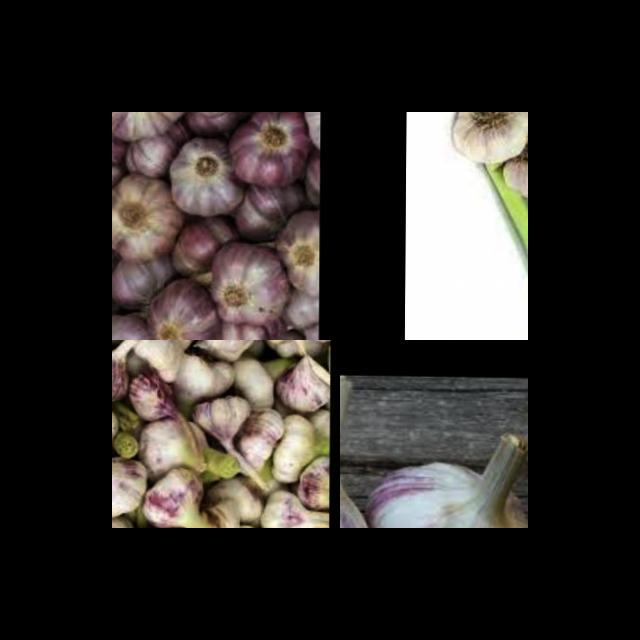garlic: (112, 112, 319, 340), (112, 340, 331, 528), (359, 424, 528, 528), (340, 371, 393, 528), (452, 112, 528, 159), (492, 124, 528, 212)
